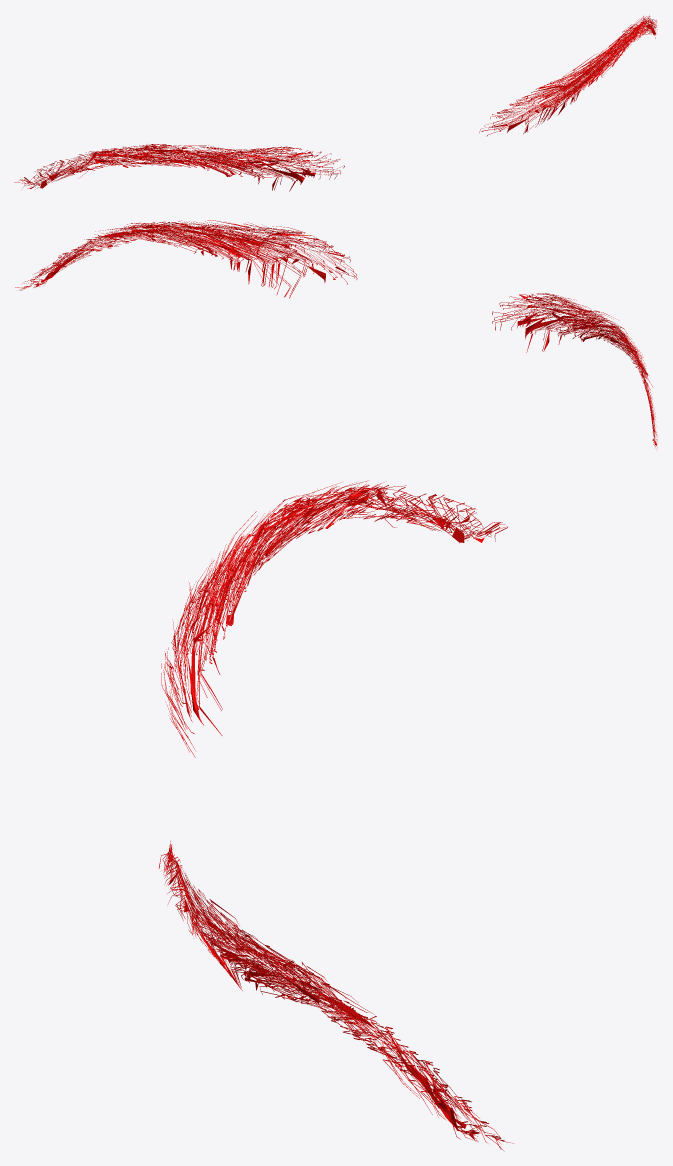
The model's file is mindfront_eyebrows_03_F.glb.
3 renders of one model, top to bottom at view 1: azimuth 30°, elevation 25°; view 2: azimuth 150°, elevation 25°; view 3: azimuth 270°, elevation 25°, orthographic. The views are drawn at different scales.
Bounding box in the file's own units: 0.1228 × 0.0119 × 0.0294.
Materials: 1 (1 with a texture image).
